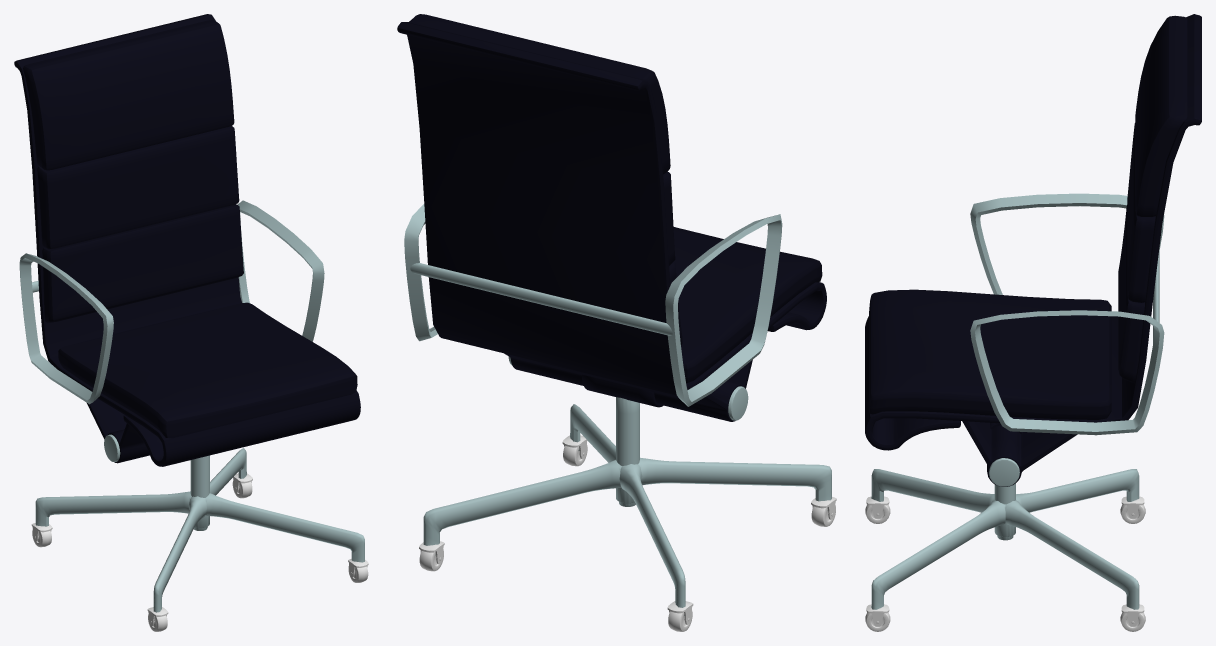
Rendered from EH Office Chair.fbx.
3 views of the same model, side by side, from view 1: azimuth 30°, elevation 25°; view 2: azimuth 150°, elevation 25°; view 3: azimuth 270°, elevation 25° (orthographic). The views are drawn at different scales.
Parts seen in each view (by area): view 1: Cushion00, Cushion03, Cushion02, ChairBase, Cushion01, Legs pt1, Line003, Line002, Cylinder003; view 2: ChairBase, Legs pt1, Cushion00, Line003, Cushion03, Cylinder004, Cylinder003, Line002, Cylinder005, Cushion02; view 3: Cushion00, Legs pt1, ChairBase, Cushion03, Line002, Cylinder003, Line003, Cushion02, Cushion01, Cylinder002.
Boxes of the visible parts, x1,y1,x2,y2 form: Cushion00: [58, 302, 357, 438]; Cushion03: [23, 20, 234, 170]; Cushion02: [37, 125, 239, 249]; ChairBase: [14, 14, 360, 466]; Cushion01: [42, 204, 243, 322]; Legs pt1: [35, 448, 364, 618]; Line003: [19, 253, 113, 404]; Line002: [237, 200, 324, 341]; Cylinder003: [87, 398, 149, 463]; ChairBase: [397, 22, 826, 395]; Legs pt1: [423, 397, 831, 615]; Cushion00: [673, 227, 822, 382]; Line003: [665, 214, 782, 406]; Cushion03: [409, 14, 670, 174]; Cylinder004: [410, 263, 672, 335]; Cylinder003: [504, 353, 752, 421]; Line002: [404, 204, 437, 341]; Cylinder005: [582, 374, 663, 407]; Cushion02: [663, 171, 675, 265]; Cushion00: [869, 289, 1111, 419]; Legs pt1: [871, 469, 1139, 609]; ChairBase: [865, 14, 1201, 450]; Cushion03: [1135, 15, 1187, 216]; Line002: [970, 310, 1164, 435]; Cylinder003: [962, 421, 1077, 486]; Line003: [970, 193, 1164, 294]; Cushion02: [1127, 123, 1155, 302]; Cushion01: [1118, 205, 1144, 382]; Cylinder002: [989, 458, 1019, 486].
Size of the model in its own units: 24.18 by 48.63 by 29.05.
